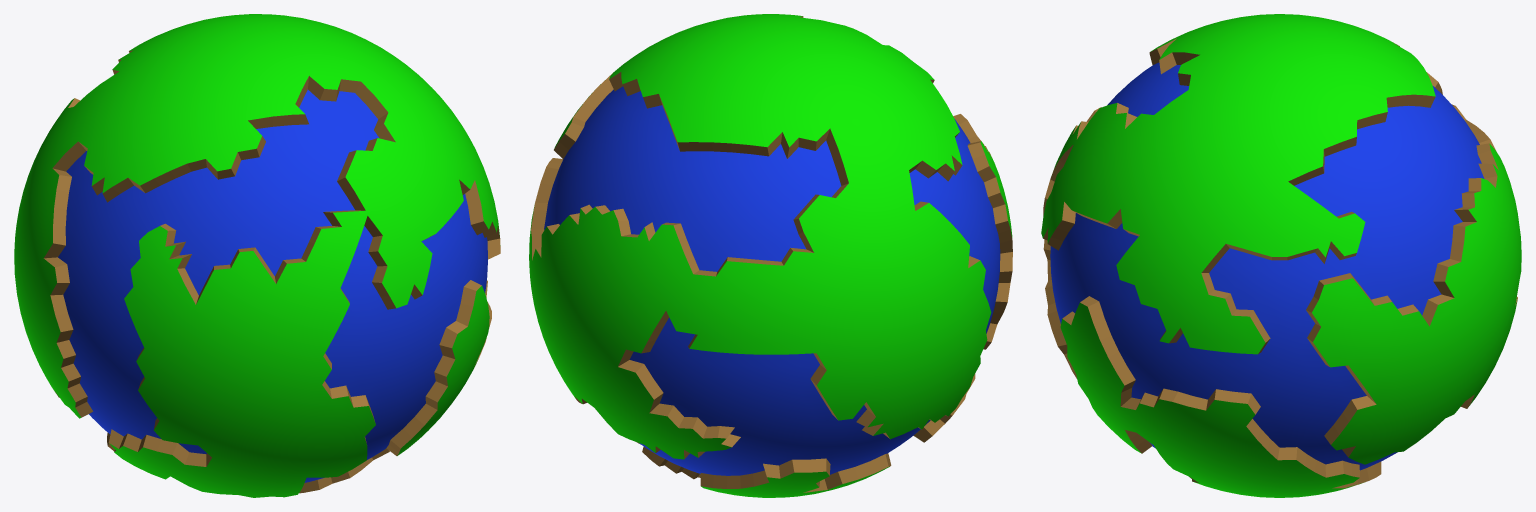
The model's file is home.fbx.
The picture shows the model from 3 angles, left to right: view 1: azimuth 30°, elevation 25°; view 2: azimuth 150°, elevation 25°; view 3: azimuth 270°, elevation 25°; orthographic projection.
Parts seen in each view (by area): view 1: Home; view 2: Home; view 3: Home.
Boxes of the visible parts, x1,y1,x2,y2 form: Home: (14, 14, 500, 497); Home: (529, 14, 1012, 497); Home: (1041, 14, 1521, 497).
Size of the model in its own units: 10.53 by 10.56 by 10.48.
